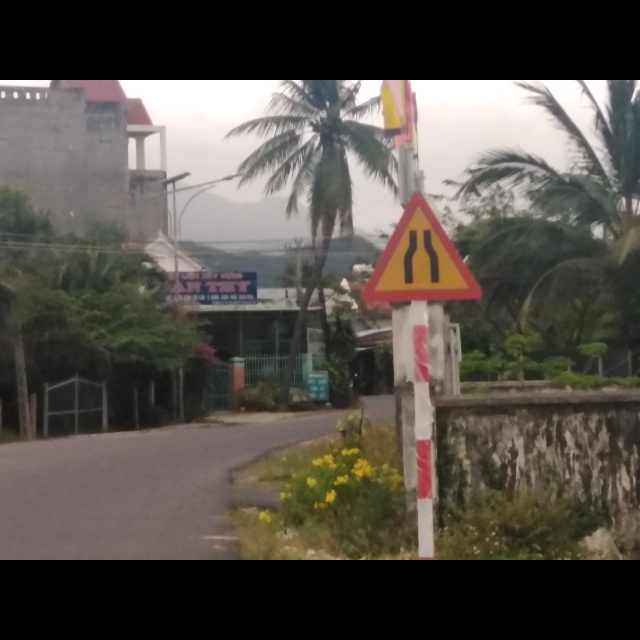Đường bị hẹp cả hai bên: (365, 191, 482, 302)
